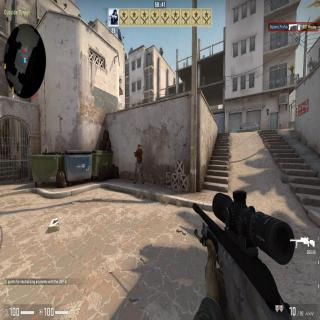T-Body: (134, 143, 144, 184)
T-Head: (138, 144, 140, 150)
